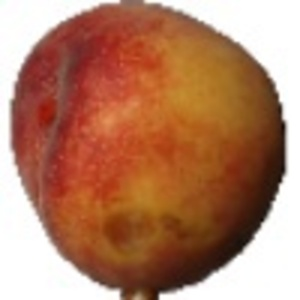pêssego: (1, 1, 288, 300)
